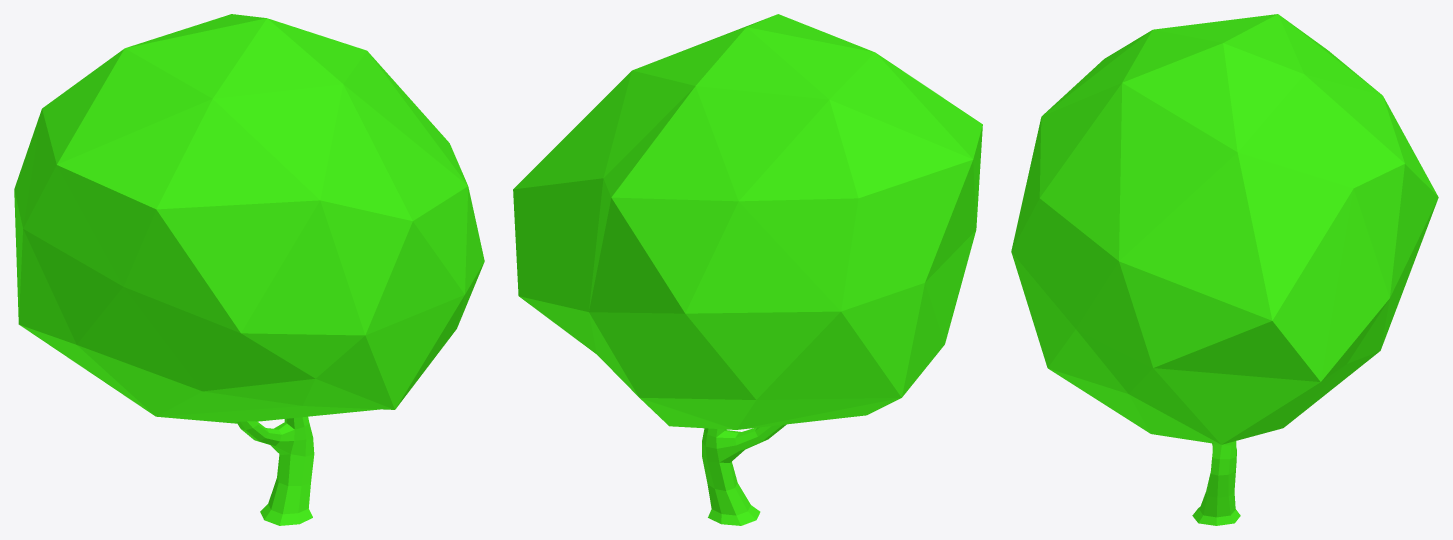
File: bush_1.gltf
The picture shows the model from 3 angles, left to right: view 1: azimuth 30°, elevation 25°; view 2: azimuth 150°, elevation 25°; view 3: azimuth 270°, elevation 25°; orthographic projection. The views are drawn at different scales.
Visible parts, largest first — view 1: Bush_1; view 2: Bush_1; view 3: Bush_1.
Part boxes in pixels (box(x1,y1,x2,y2)): Bush_1: box(14, 14, 484, 525); Bush_1: box(513, 14, 982, 525); Bush_1: box(1011, 14, 1438, 525).
Bounding box in the file's own units: 193 × 214 × 178.
